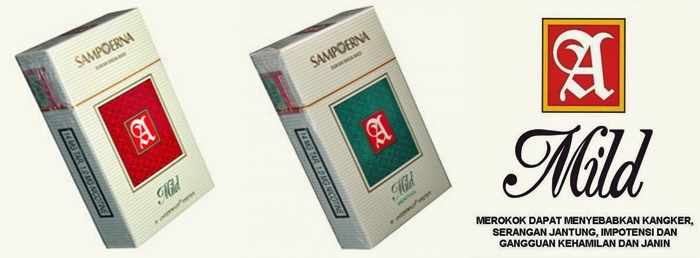A Mild: (21, 71, 241, 254)
